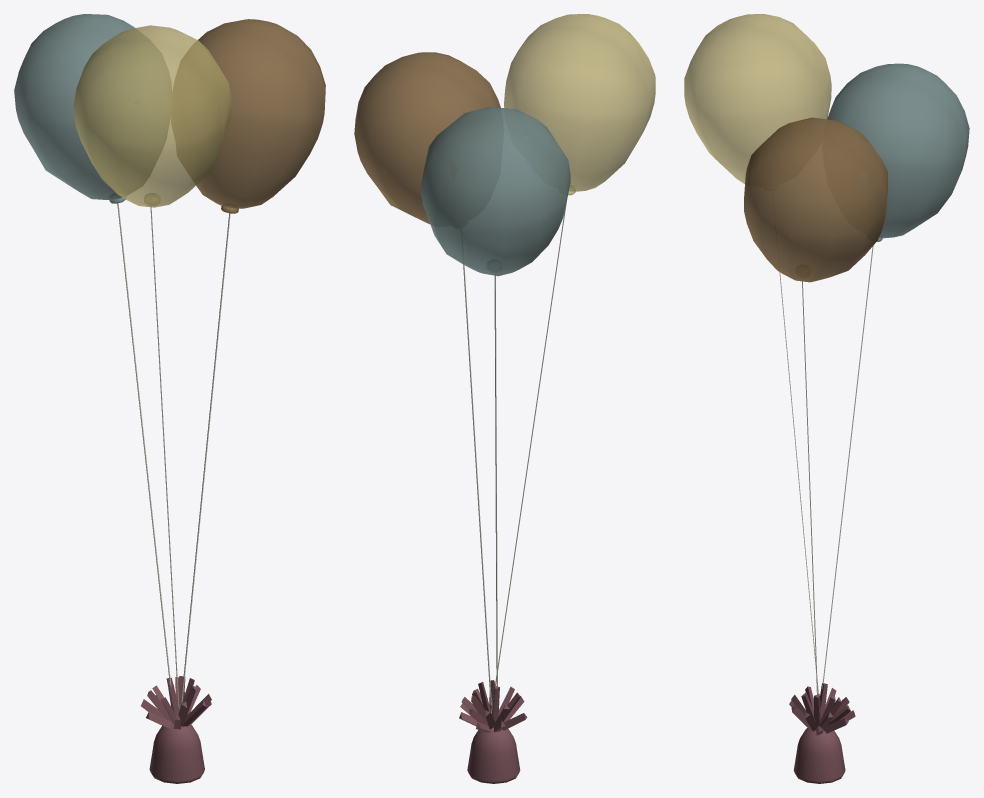
The model's file is BalloonCluster2.fbx.
3 views of the same model, side by side, from view 1: azimuth 30°, elevation 25°; view 2: azimuth 150°, elevation 25°; view 3: azimuth 270°, elevation 25° (orthographic). The views are drawn at different scales.
Visible parts, largest first — view 1: BalloonCluster_2; view 2: BalloonCluster_2; view 3: BalloonCluster_2.
Boxes of the visible parts, x1,y1,x2,y2 form: BalloonCluster_2: (14,14,325,783); BalloonCluster_2: (354,14,655,783); BalloonCluster_2: (684,14,969,783).
Size of the model in its own units: 95.03 by 269 by 95.55.
